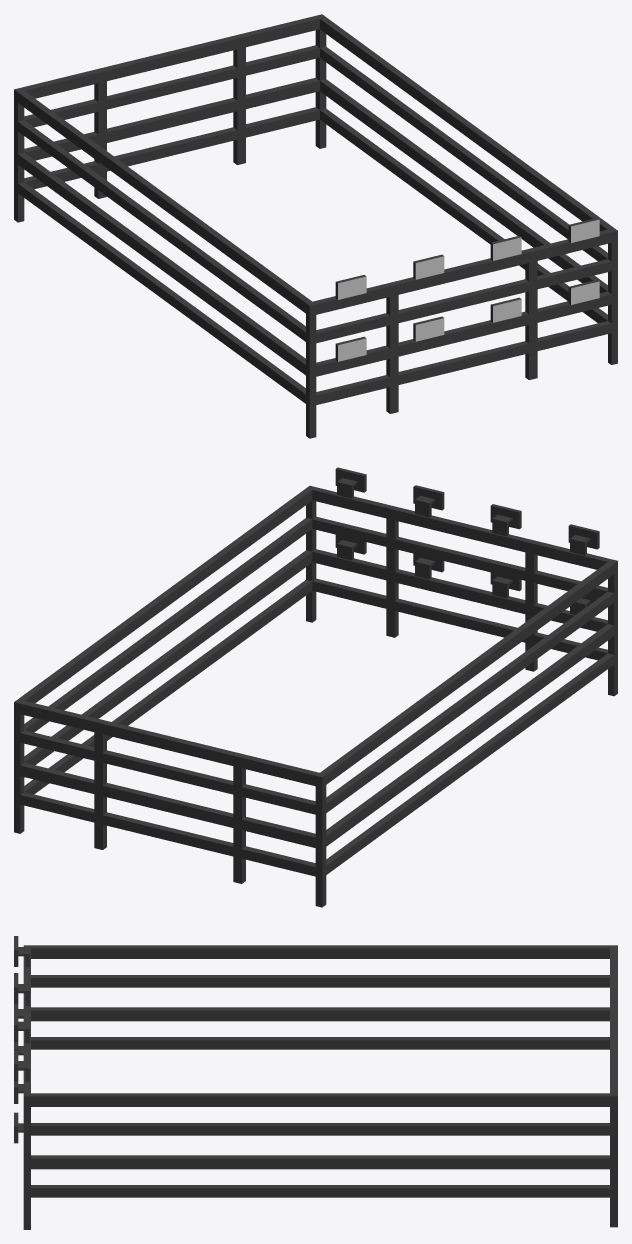
File: spoiler2.glb
3 views of the same model, one above another, from view 1: azimuth 30°, elevation 25°; view 2: azimuth 150°, elevation 25°; view 3: azimuth 270°, elevation 25° (orthographic).
Parts seen in each view (by area): view 1: spoiler2; view 2: spoiler2; view 3: spoiler2.
Part boxes in pixels (x1,y1,x2,y2): spoiler2: [14, 14, 617, 438]; spoiler2: [14, 467, 617, 907]; spoiler2: [14, 936, 617, 1229].
Size of the model in its own units: 2.4 by 1.15 by 4.05.
1 material, 1 textured.
